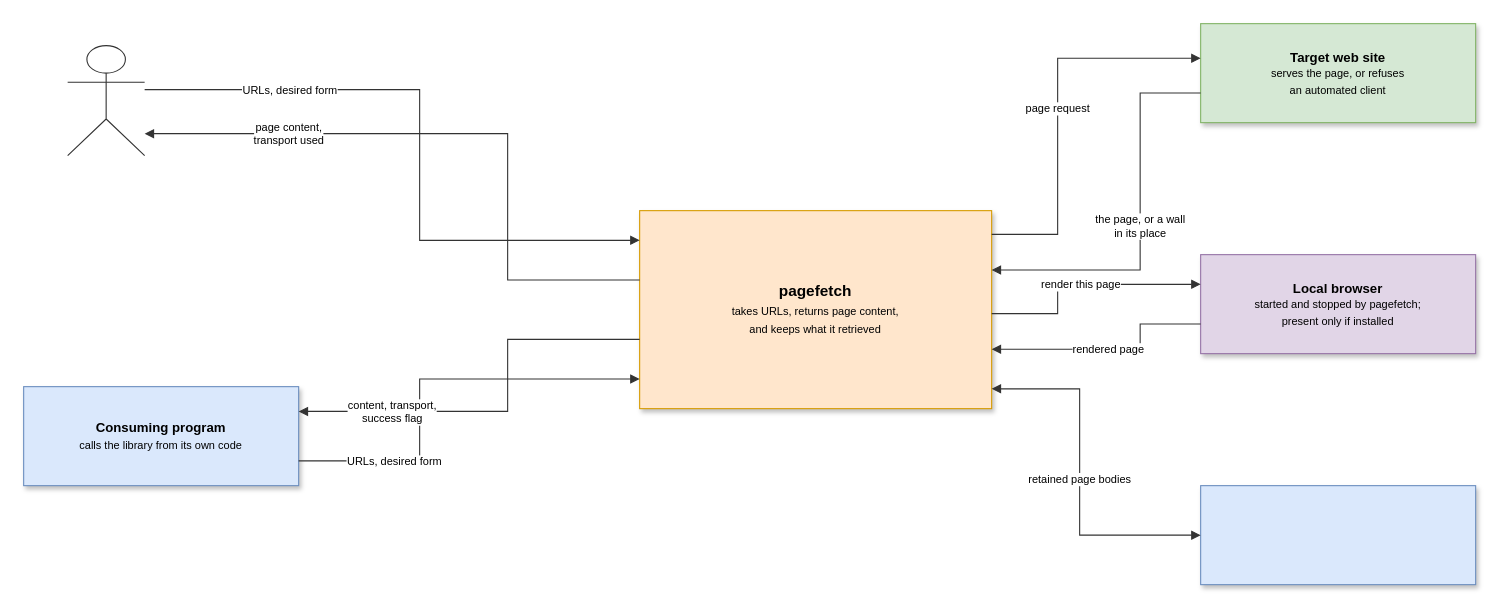
Image size: 1502x612. Some labels were removed from this diagram. The shapes that lost their labels are listed below. From the top down, each one's centre as x and y in pixels, then its label:
At [106,100]: "Researcher human, at a command line".
At [1338,536]: "Local file store retained page bodies".
